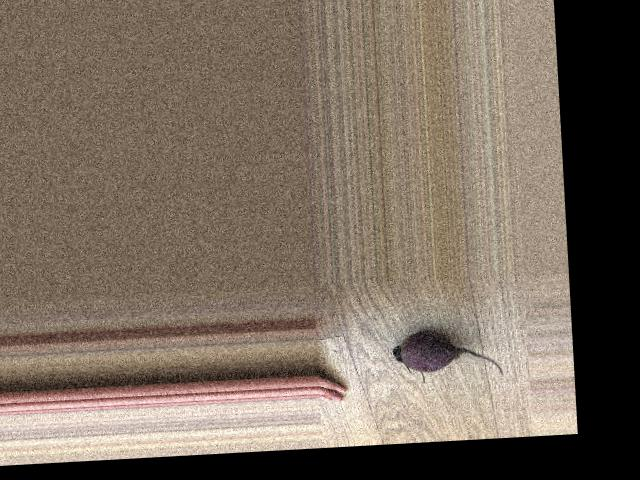beet: (392, 327, 504, 384)
